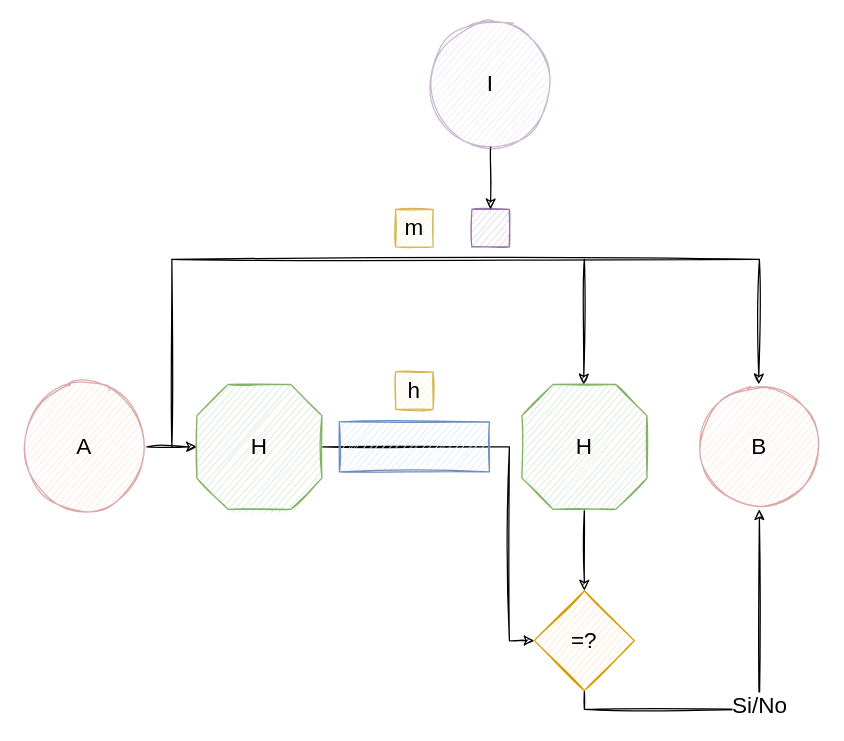
Image size: 844x741. Some labels were removed from this diagram. The shapes that lost their labels are listed below. From the top down, each one's box as (x1, y1, x2, y2) in pixels, then its label:
(471, 208, 509, 247): m'
(338, 421, 489, 472): canale sicuro
